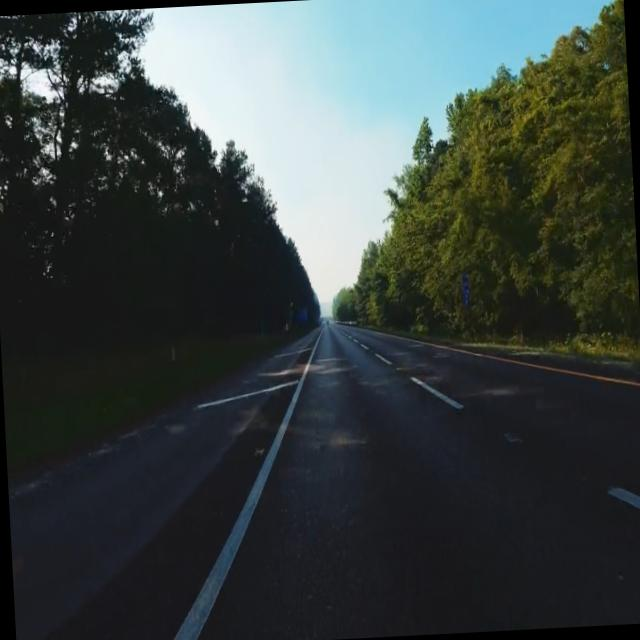asphalt: (198, 327, 640, 640), (41, 429, 269, 640)
